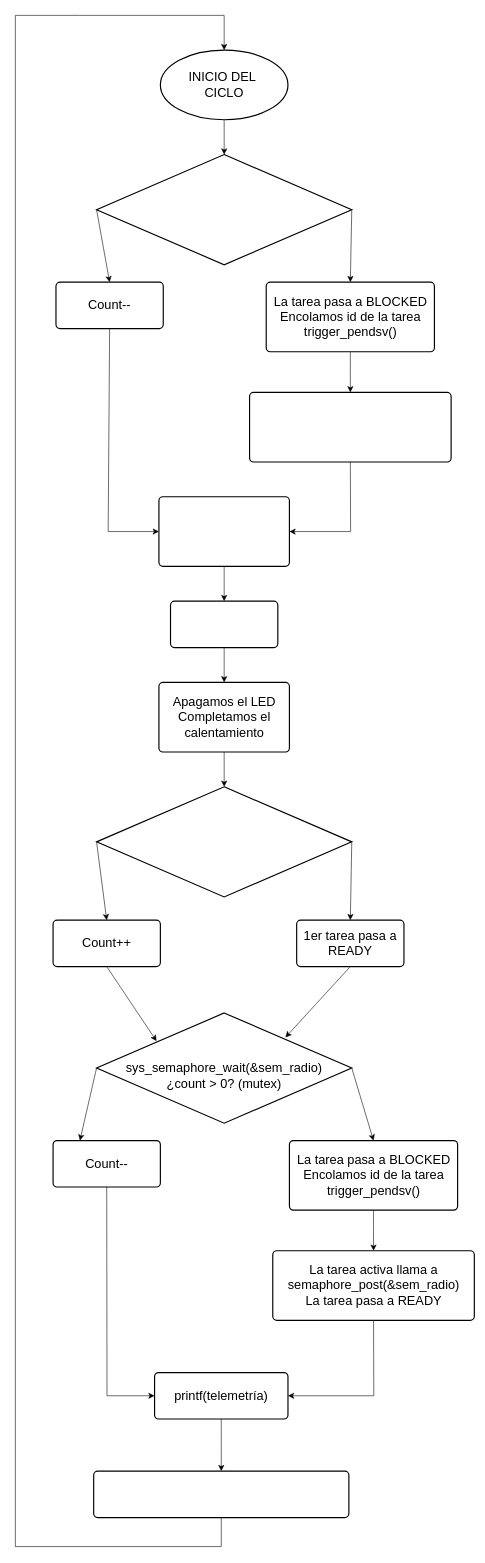
Some shapes in this 485 by 1563 pixel diagram are drawn without their labels. The shapes that lost their labels are listed below. From the top down, each one's box as (x1, y1, x2, y2) in pixels, then its label:
(96, 154, 352, 265): sys_semaphore_wait(&sem_energia) ¿count > 0?
(249, 392, 451, 462): Otro susbsystem llama a semaphore_post(&sem_energia) La tarea pasa a READY
(158, 496, 290, 567): Encendemos el LED El calentador está activo
(170, 600, 278, 648): Delay de 500ms
(96, 786, 352, 897): sys_semaphore_post(&sem_energia) ¿cola vacía?
(93, 1470, 349, 1518): sys_semaphore_post(&sem_radio)
